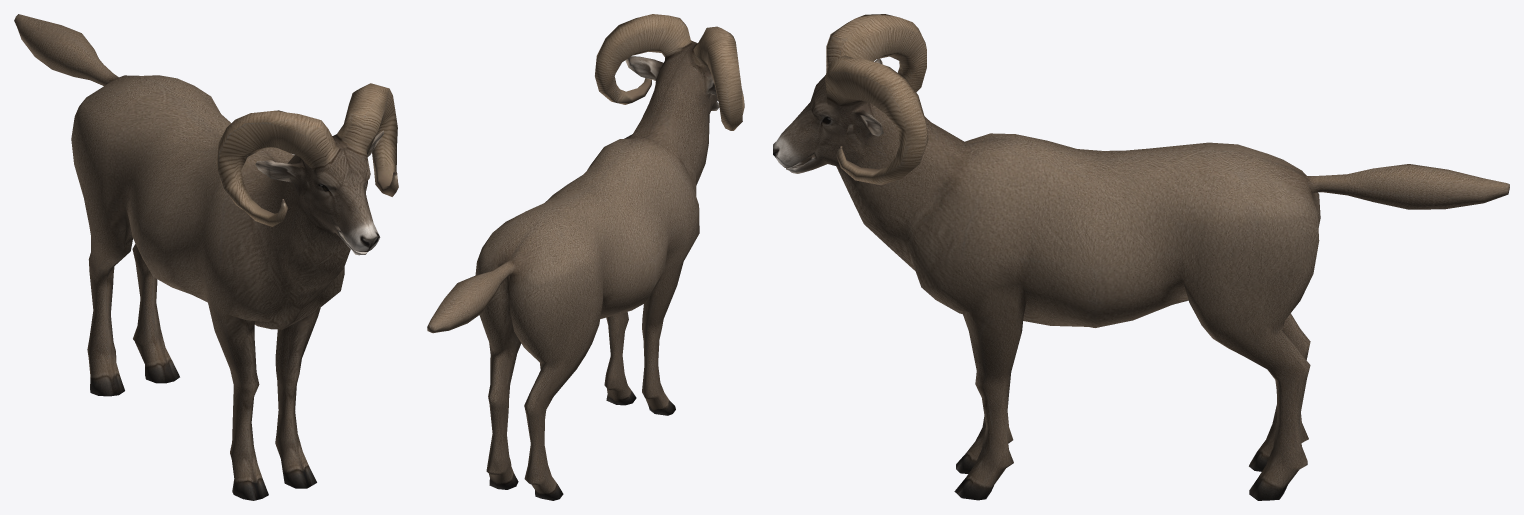
The model's file is utah.fbx.
3 views of the same model, side by side, from view 1: azimuth 30°, elevation 25°; view 2: azimuth 150°, elevation 25°; view 3: azimuth 270°, elevation 25° (orthographic). The views are drawn at different scales.
Visible parts, largest first — view 1: Mesh_0; view 2: Mesh_0; view 3: Mesh_0.
Boxes of the visible parts, x1,y1,x2,y2 form: Mesh_0: (14,14,398,500); Mesh_0: (427,14,744,500); Mesh_0: (773,14,1509,500).
Bounding box in the file's own units: 29.2 × 66.02 × 100.
Materials: 1 (1 with a texture image).
